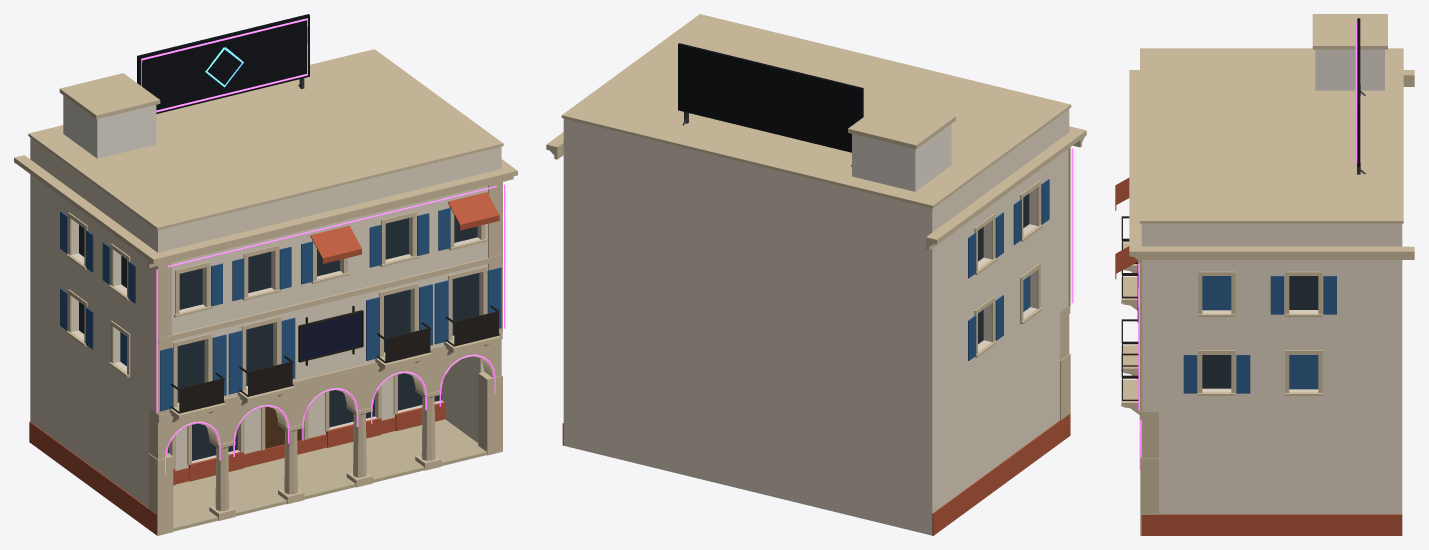
3 renders of one model, left to right at view 1: azimuth 30°, elevation 25°; view 2: azimuth 150°, elevation 25°; view 3: azimuth 270°, elevation 25°, orthographic. The views are drawn at different scales.
Visible parts, largest first — view 1: arcade.lod1; view 2: arcade.lod1; view 3: arcade.lod1.
Part boxes in pixels (x1,y1,x2,y2): arcade.lod1: (14,14,517,535); arcade.lod1: (546,14,1086,535); arcade.lod1: (1115,14,1414,535).
Bounding box in the file's own units: 14.84 × 14.8 × 10.32.
